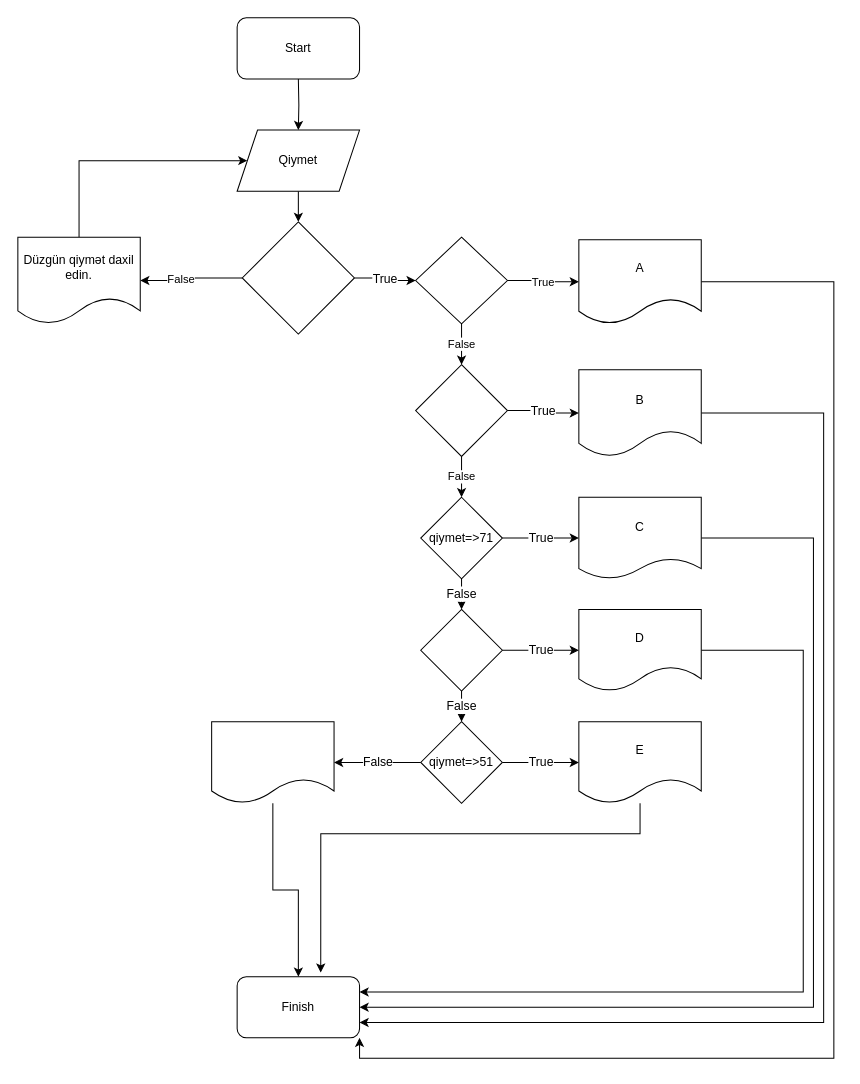
The diagram is 860 pixels wide and 1084 high, and some of its shapes have lost their labels. Each missing label, with the centre of its shape:
Kəsildiniz: the point at 272,762
qiymet=>0 qiymet<=100: the point at 297,277
qiymet=>61: the point at 461,649
qiymet=>81: the point at 461,410
qiymet=>91: the point at 461,280
